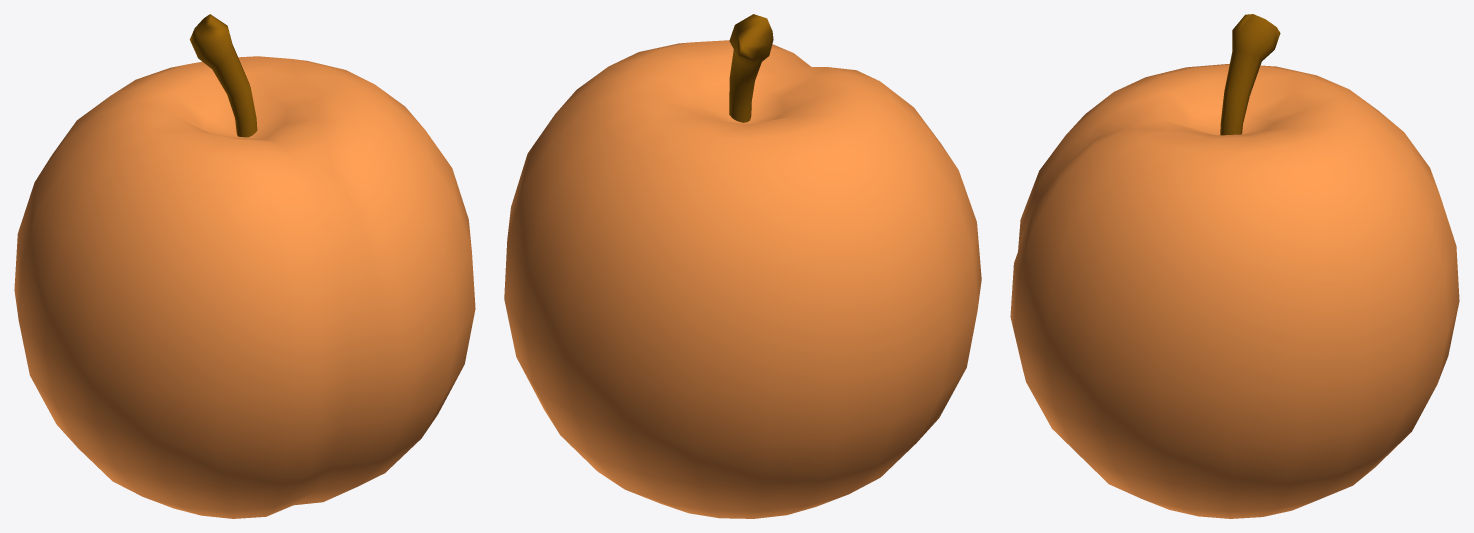
Rendered from Apricot.fbx.
The picture shows the model from 3 angles, left to right: view 1: azimuth 30°, elevation 25°; view 2: azimuth 150°, elevation 25°; view 3: azimuth 270°, elevation 25°; orthographic projection. The views are drawn at different scales.
Visible parts, largest first — view 1: Apricot; view 2: Apricot; view 3: Apricot.
Part boxes in pixels (left/top/right/bottom): Apricot: left=14, top=14, right=475, bottom=518; Apricot: left=504, top=14, right=981, bottom=518; Apricot: left=1010, top=14, right=1459, bottom=518.
Size of the model in its own units: 151 by 171 by 148.
1 material, 1 textured.
